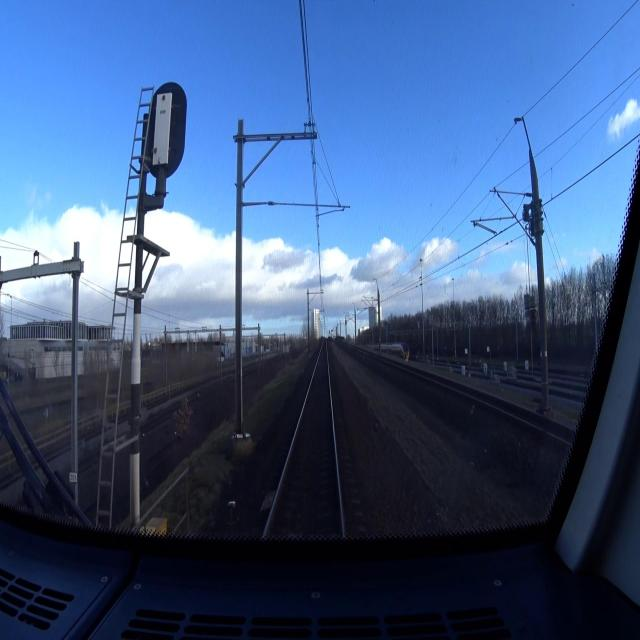rail-track: (267, 343, 341, 539)
